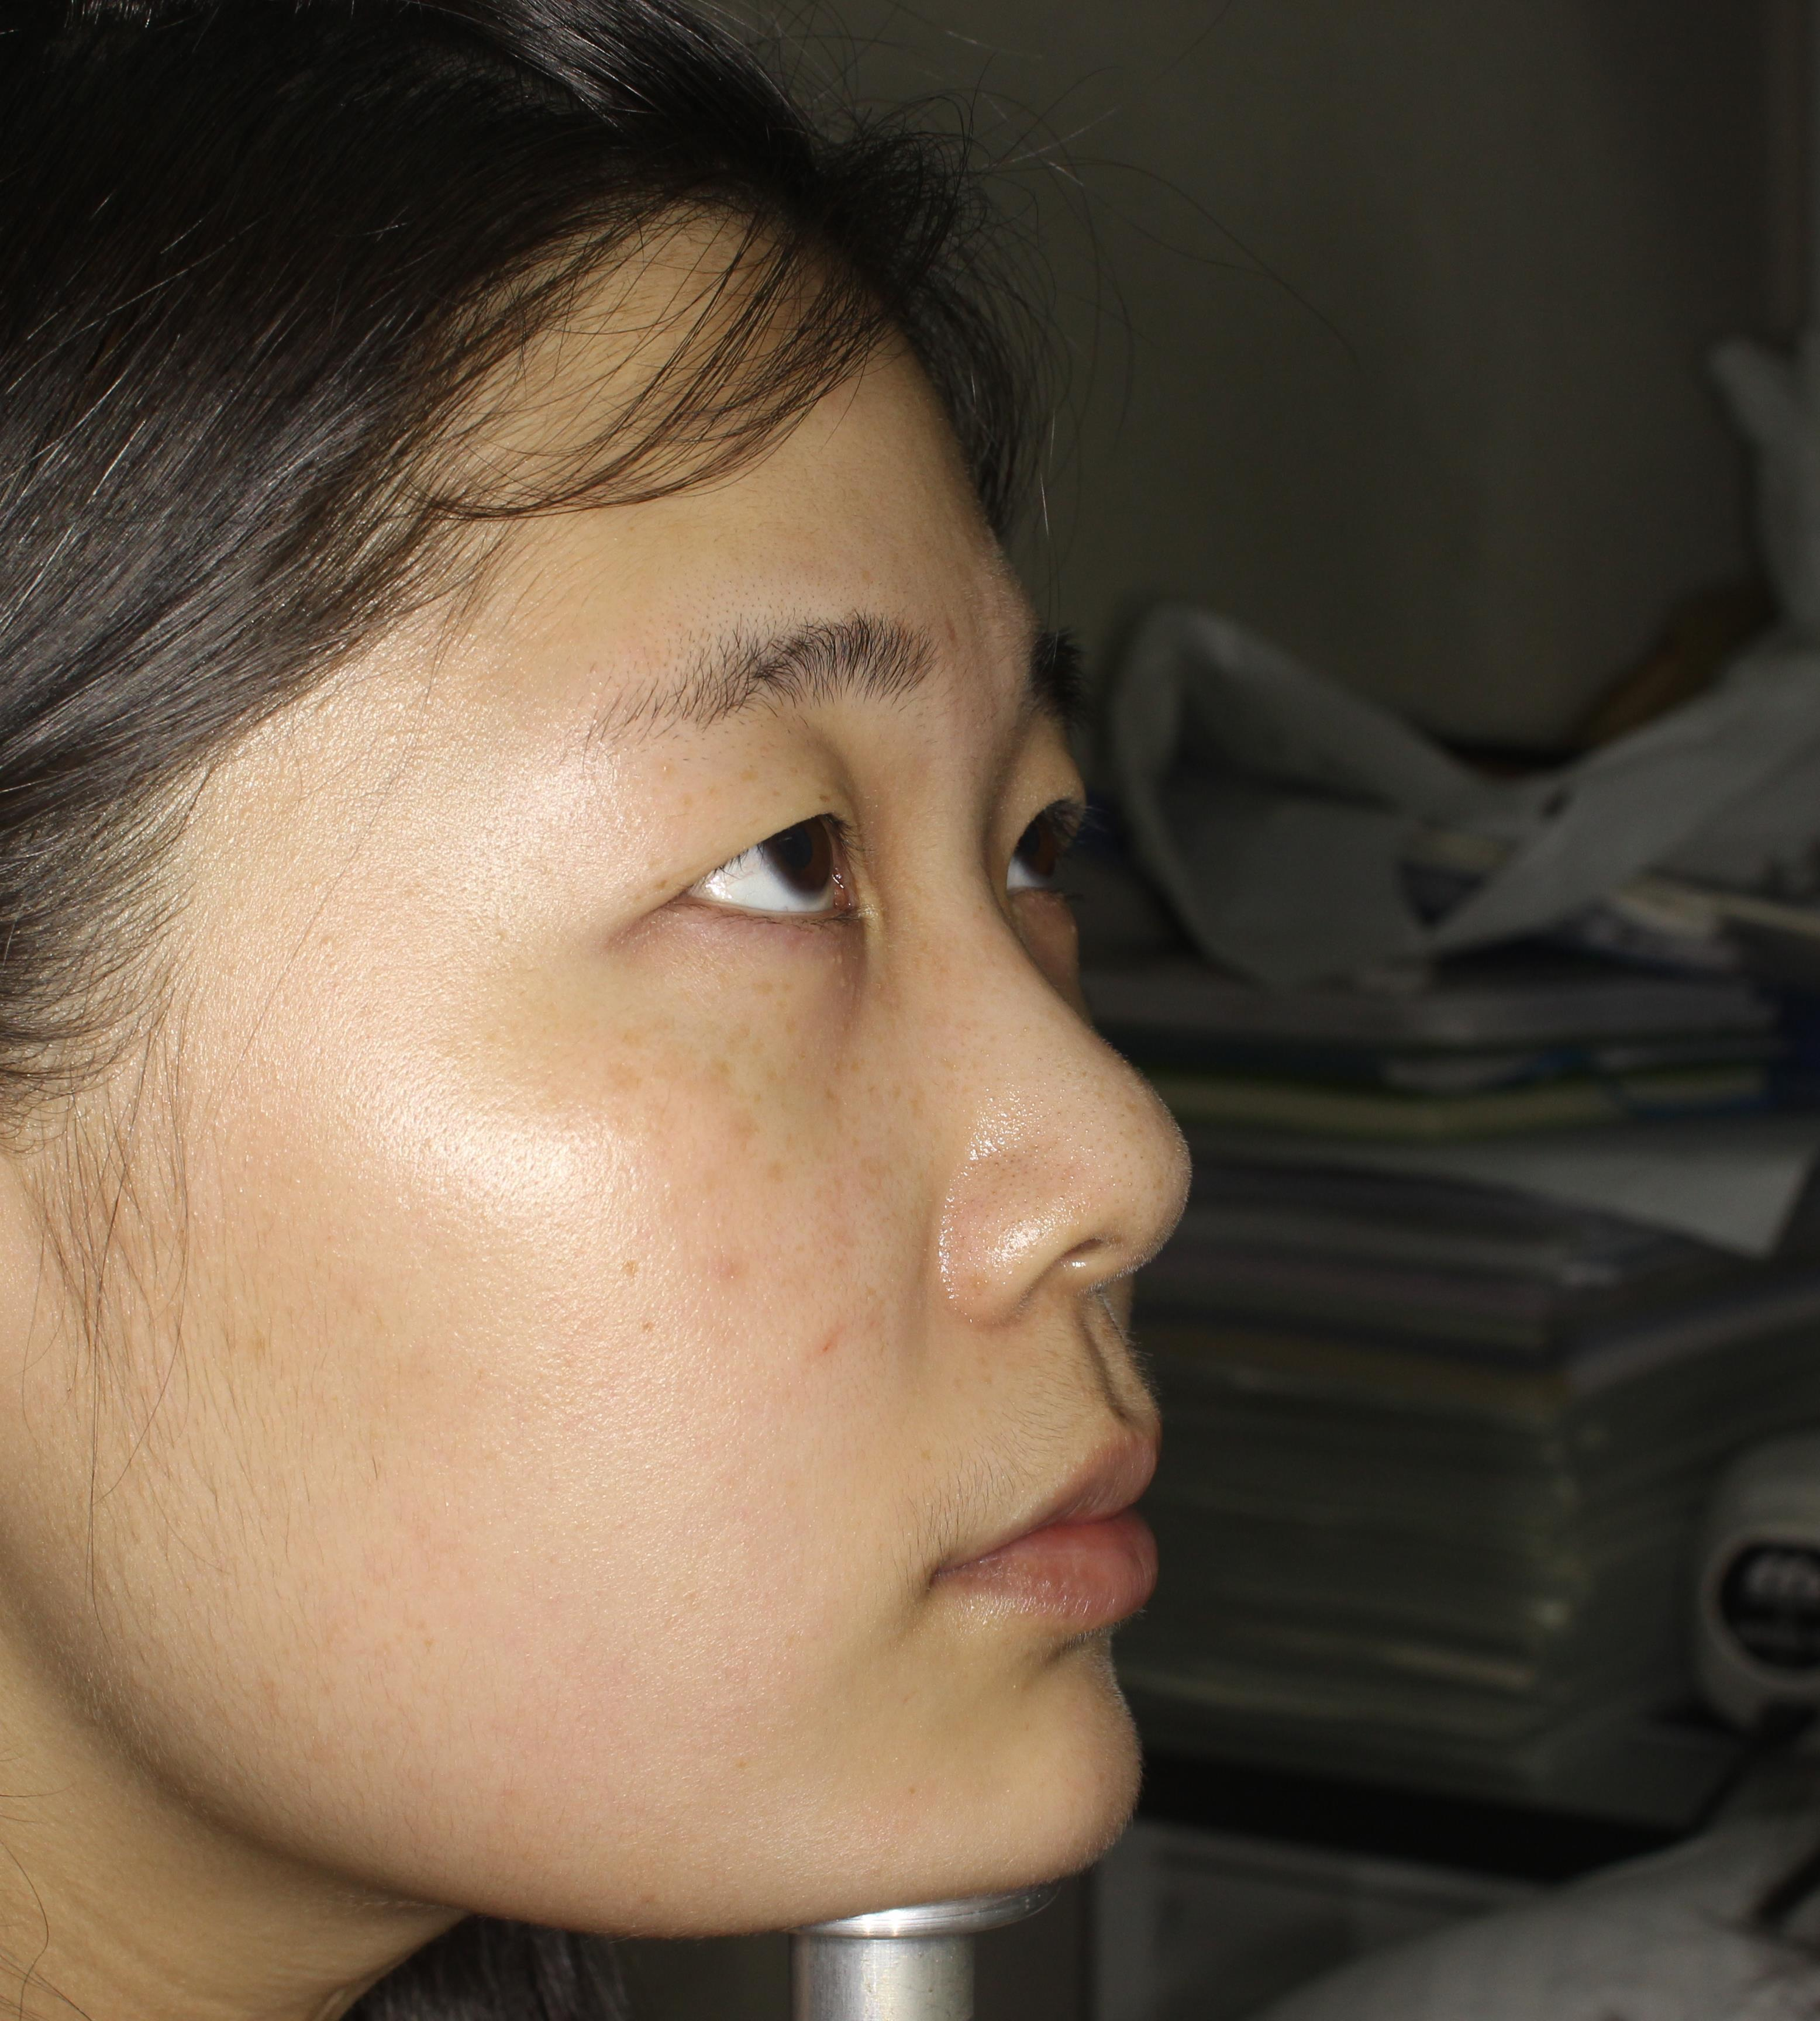fore: (791, 1298, 857, 1375)
